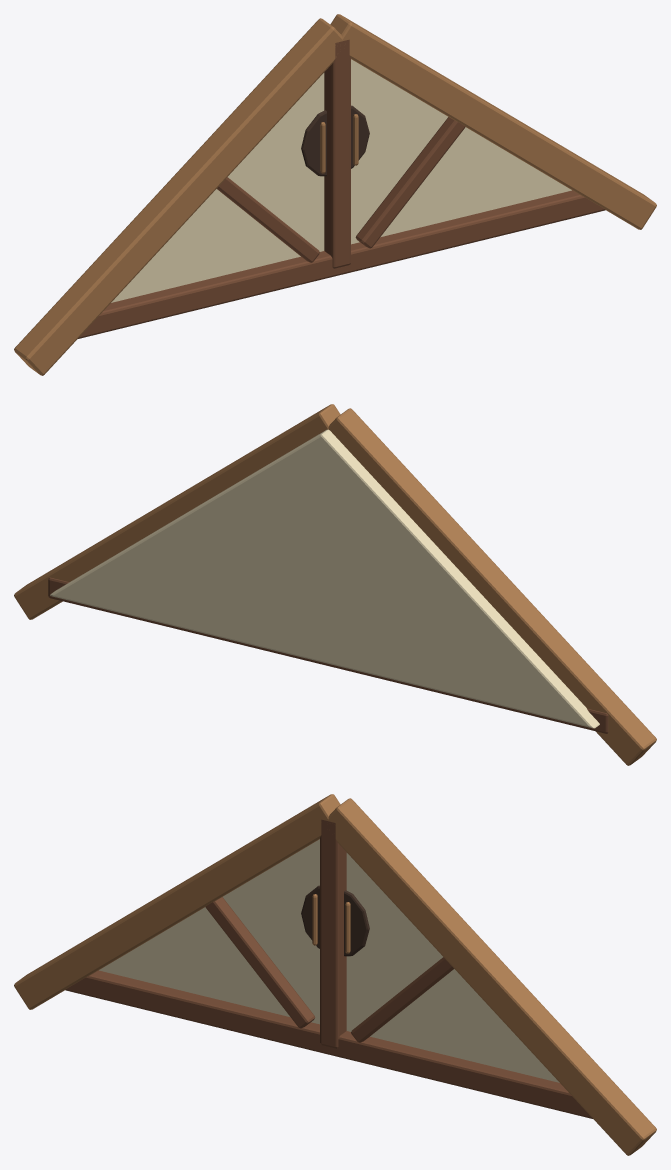
The model's file is gable_end_4m.glb.
3 views of the same model, one above another, from view 1: azimuth 30°, elevation 25°; view 2: azimuth 150°, elevation 25°; view 3: azimuth 330°, elevation 25° (orthographic).
Visible parts, largest first — view 1: gable_end_4m__structure, gable_end_4m__finish; view 2: gable_end_4m__finish, gable_end_4m__structure; view 3: gable_end_4m__structure, gable_end_4m__finish.
Boxes of the visible parts, <box> form: gable_end_4m__structure: <box>14,14,656,375</box>; gable_end_4m__finish: <box>111,59,571,302</box>; gable_end_4m__finish: <box>50,429,599,728</box>; gable_end_4m__structure: <box>14,404,656,765</box>; gable_end_4m__structure: <box>14,794,656,1155</box>; gable_end_4m__finish: <box>99,839,559,1082</box>.
Bounding box in the file's own units: 4.61 × 1.94 × 0.27.
